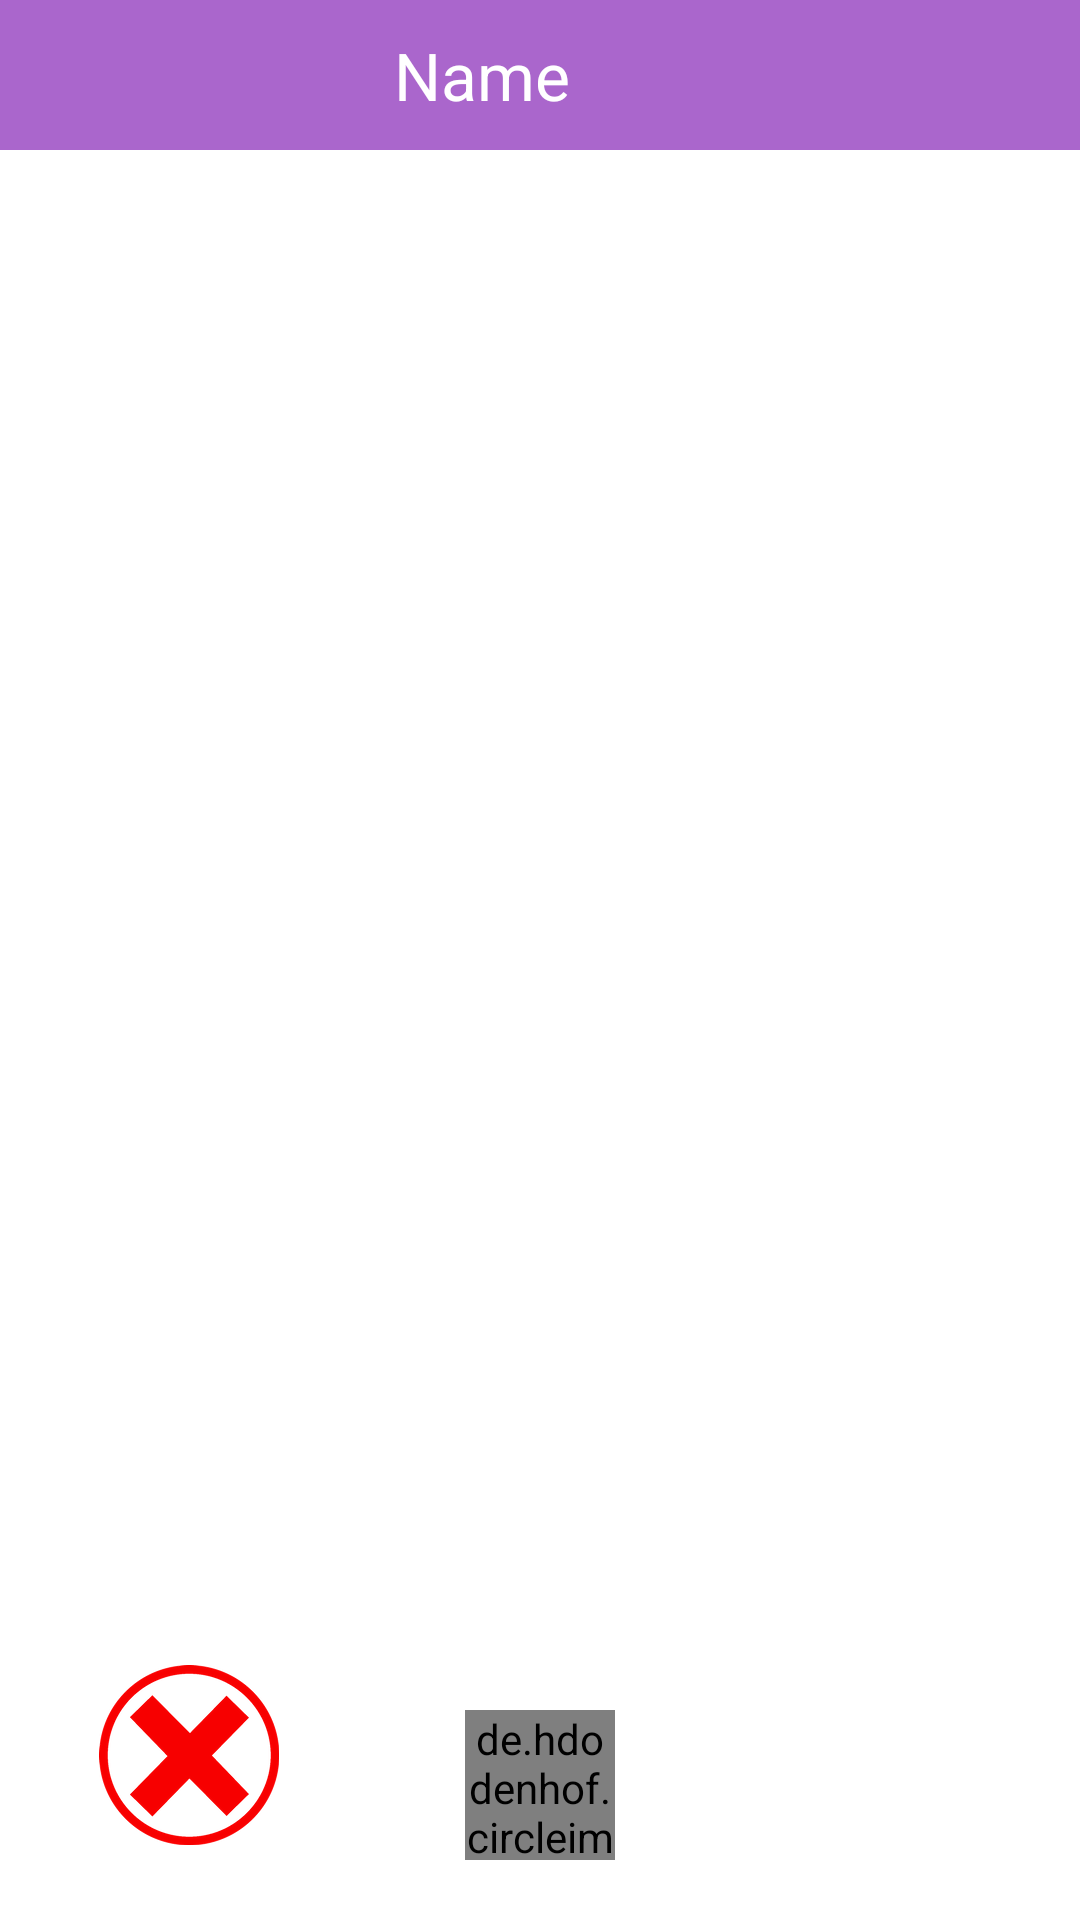

Named icons in this screenshot (1080w x 1920h) and their centers, (x,y):
cross: (189,1755)
